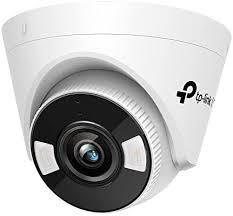maru: (27, 54, 197, 212)
